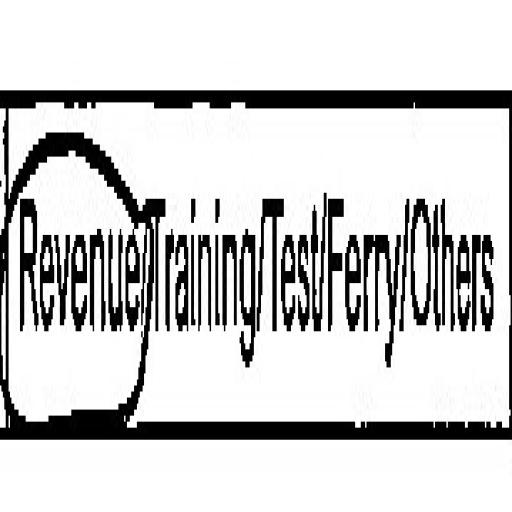check: (4, 2, 146, 486)
